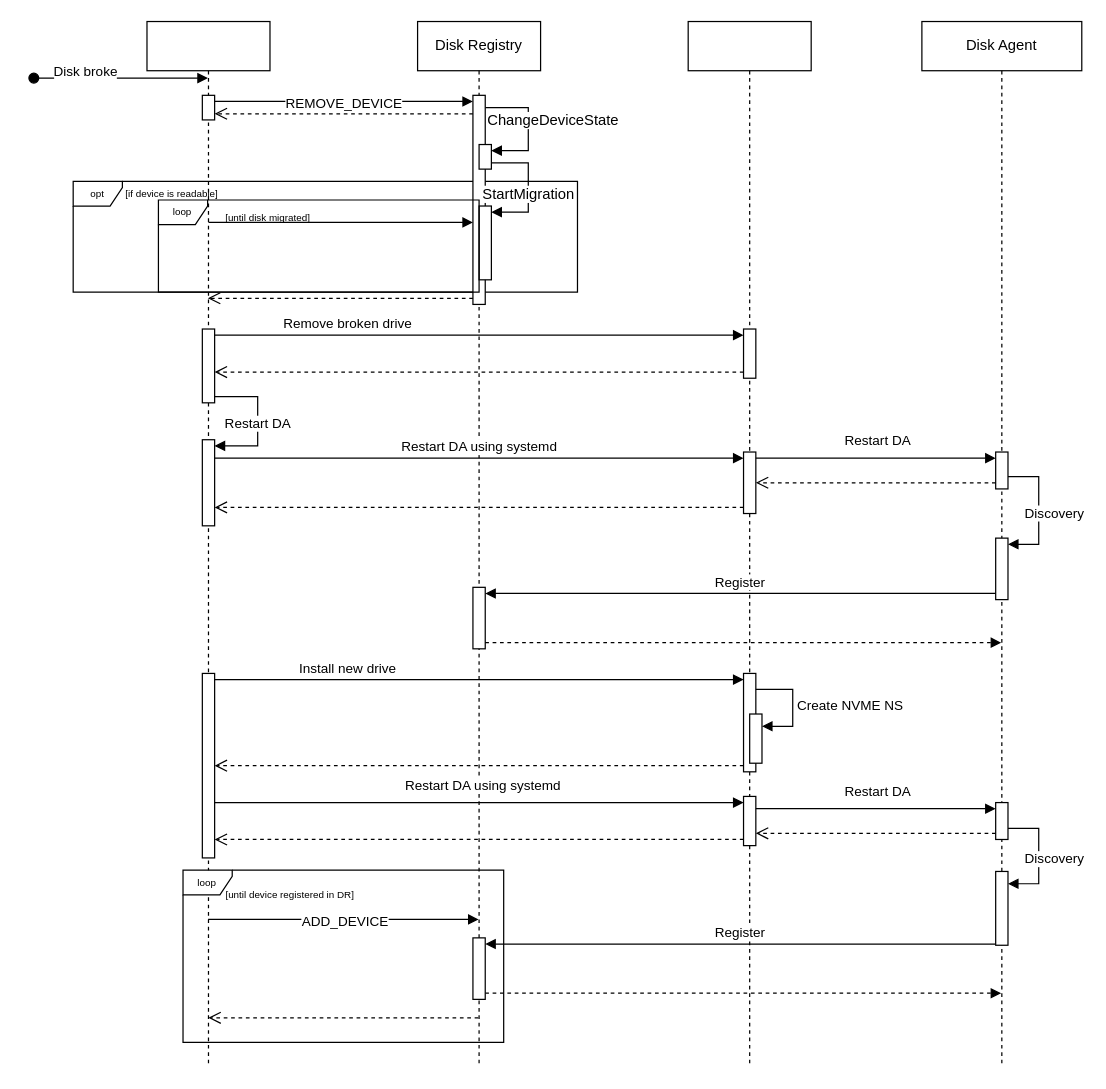
Image size: 1106x1089. Some labels were removed from this diagram. Each missing label, with the centre of its shape:
"Host" belongs at point 749,543.
"Infra" belongs at point 208,543.
